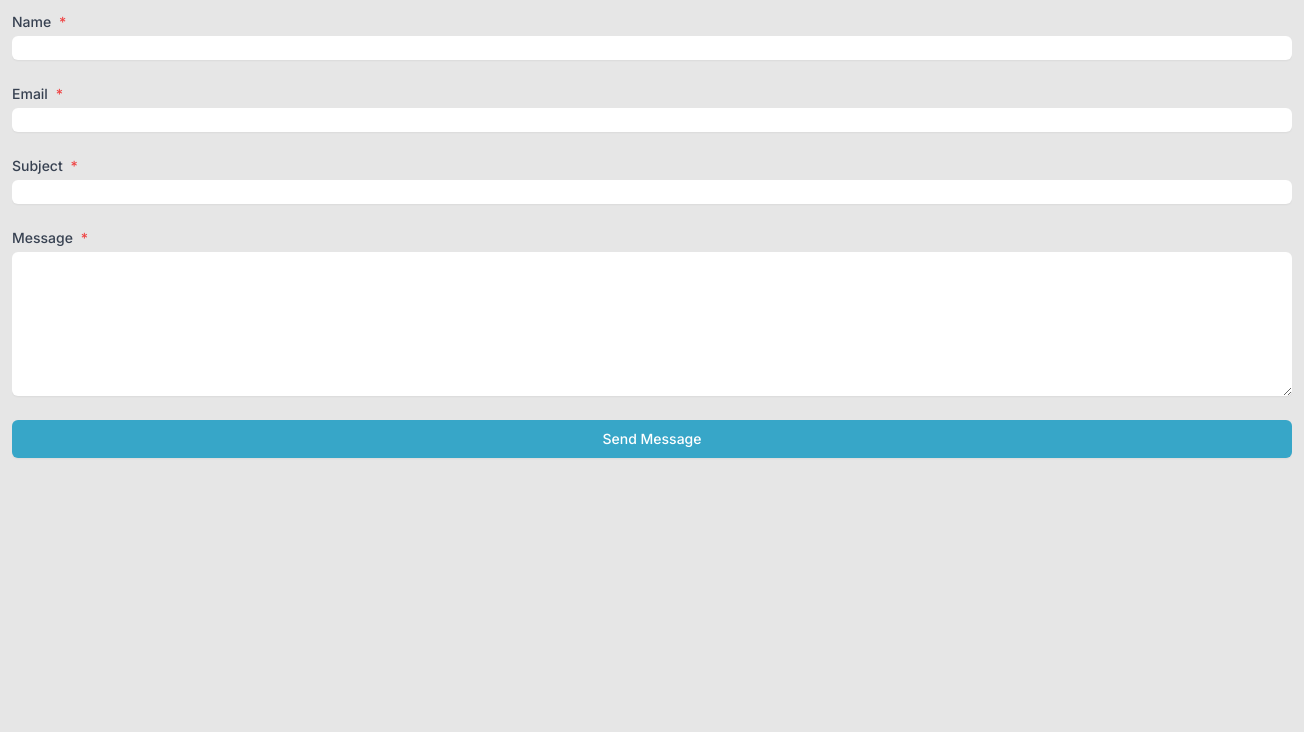
Test: Contact Form Integration › should handle API errors
Type "Test User" into the field labelled "Name *" at (652, 48), box left=12, top=36, right=1292, bottom=60
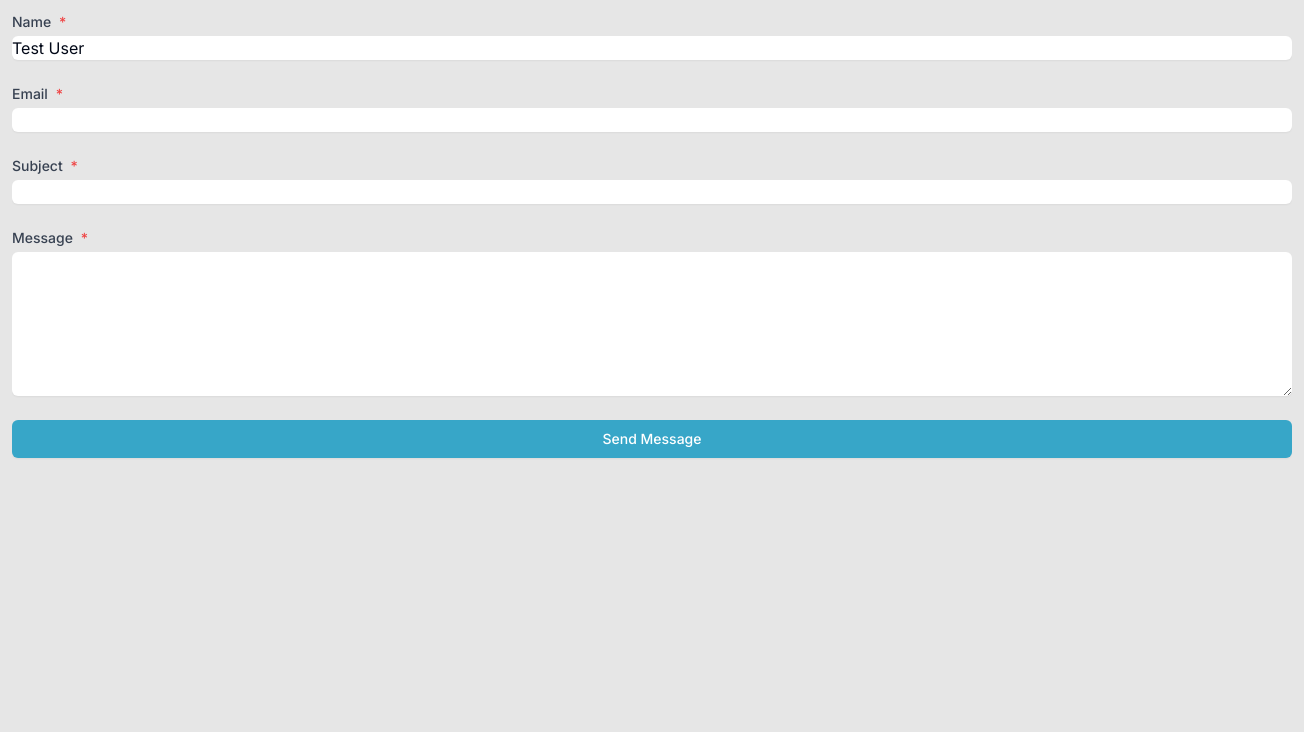
Type "test@example.com" into the field labelled "Email *" at (652, 120), box left=12, top=108, right=1292, bottom=132
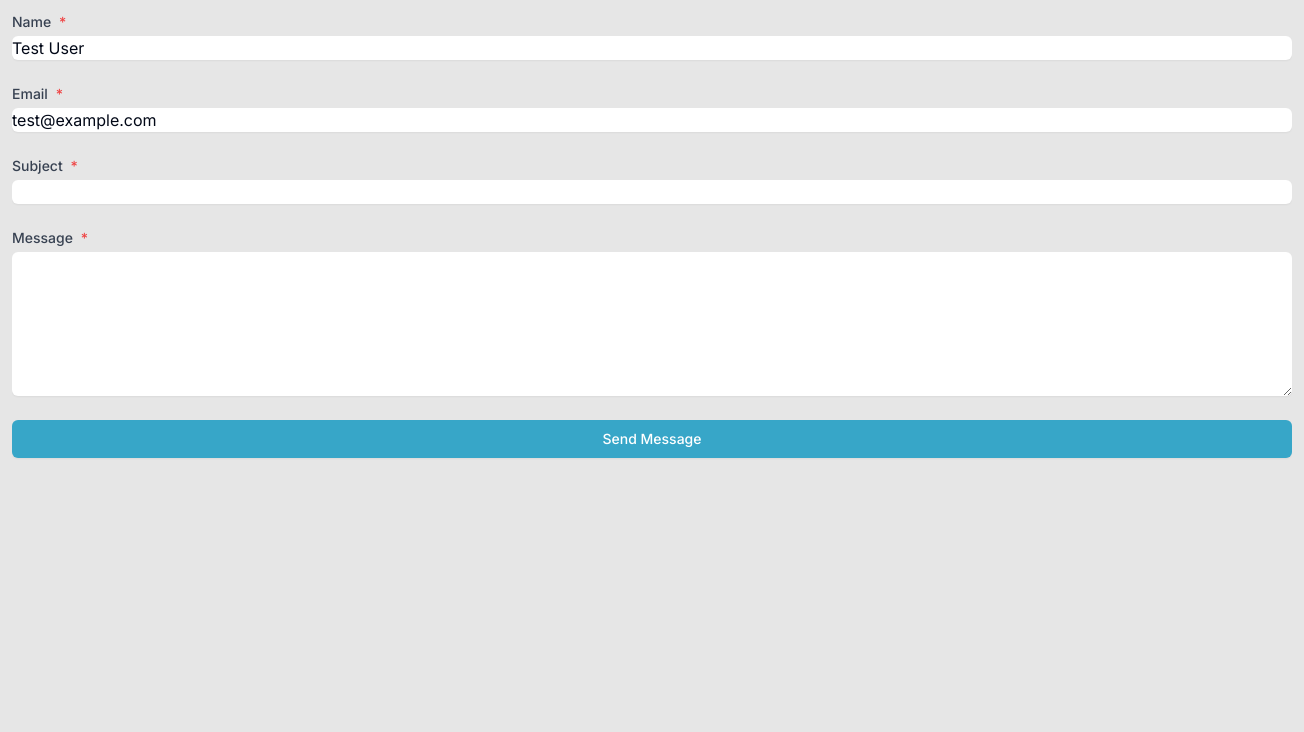
Type "Test Subject" into the field labelled "Subject *" at (652, 192), box left=12, top=180, right=1292, bottom=204
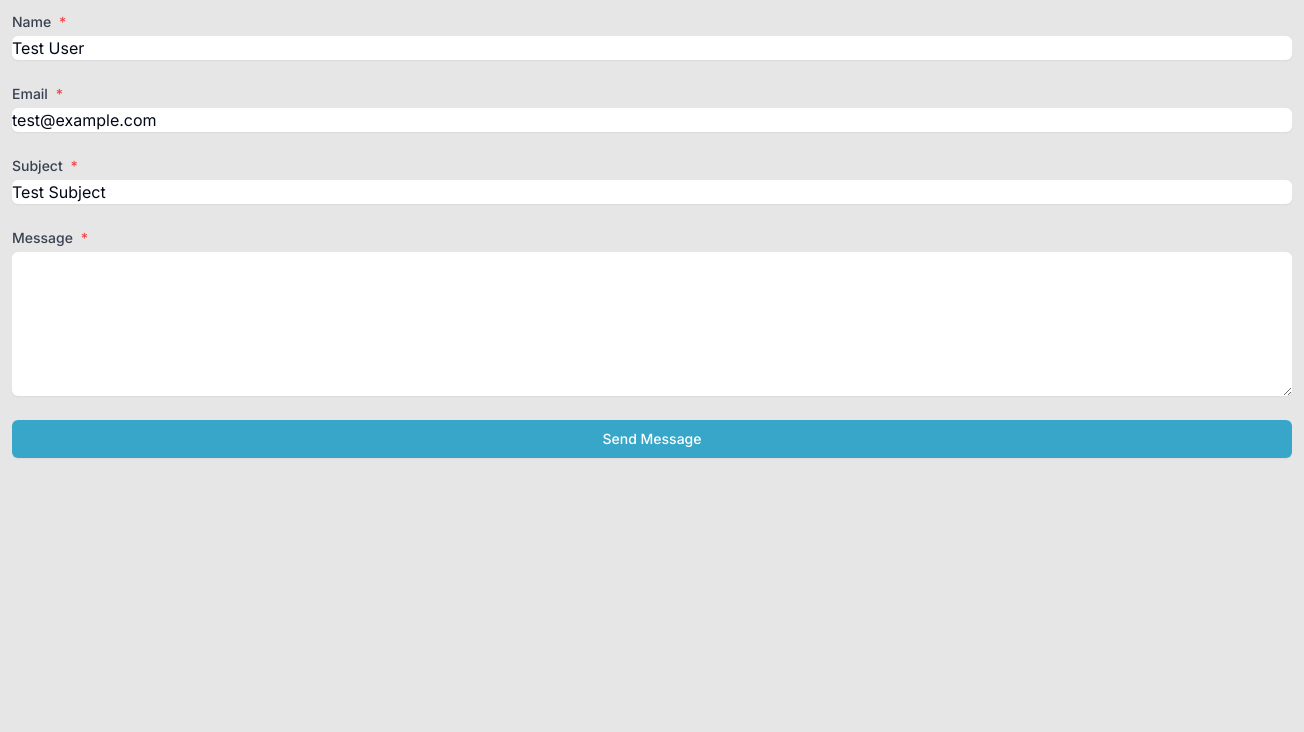
Type "Test Message" into the text box labelled "Message *" at (652, 324), box left=12, top=252, right=1292, bottom=396
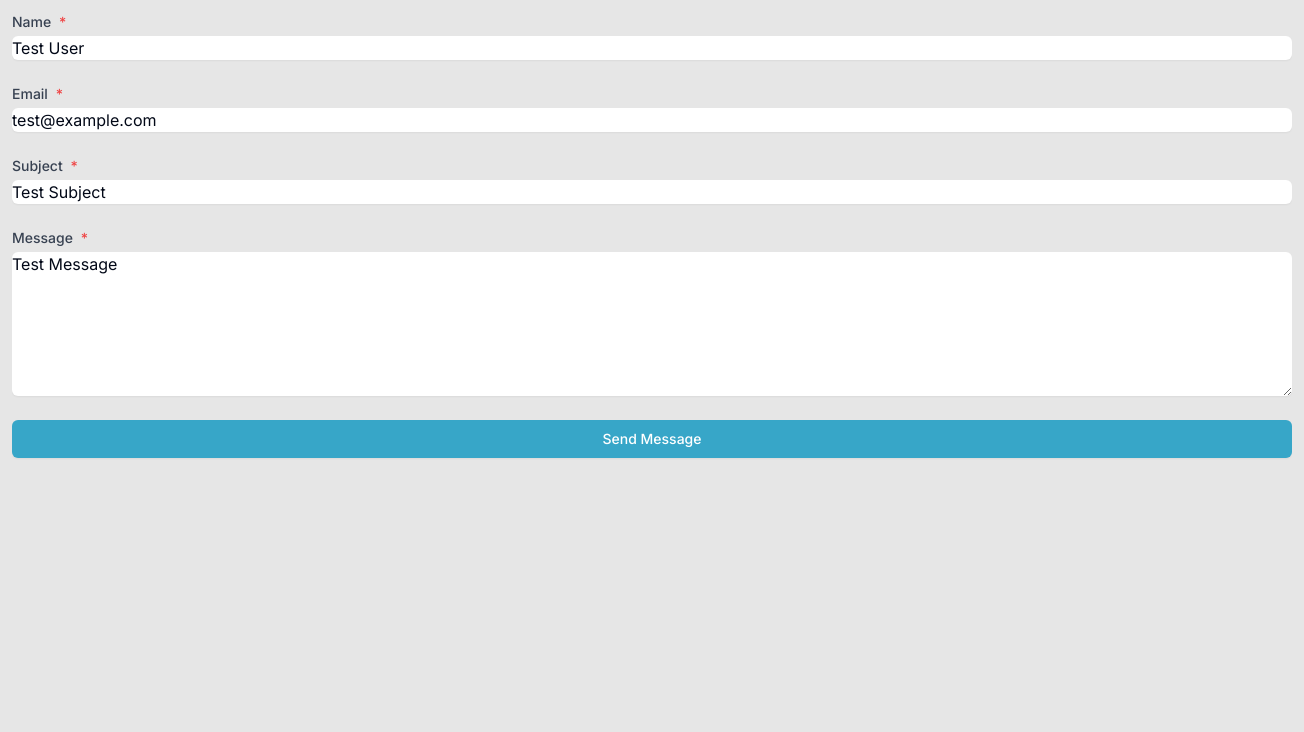
Click the button "Send Message" at (652, 439), box left=12, top=420, right=1292, bottom=458
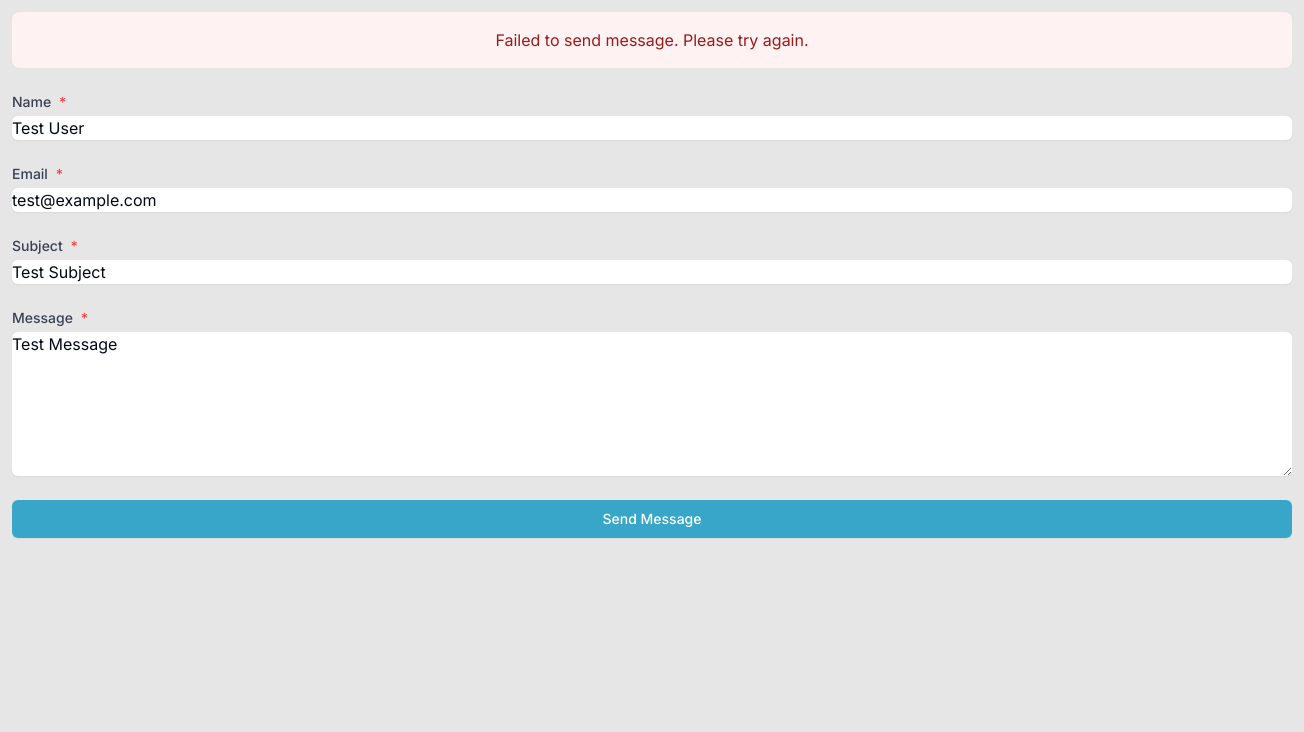
Expected: the text "Failed to send message. Please try again." is shown, left=495, top=30, right=808, bottom=50
